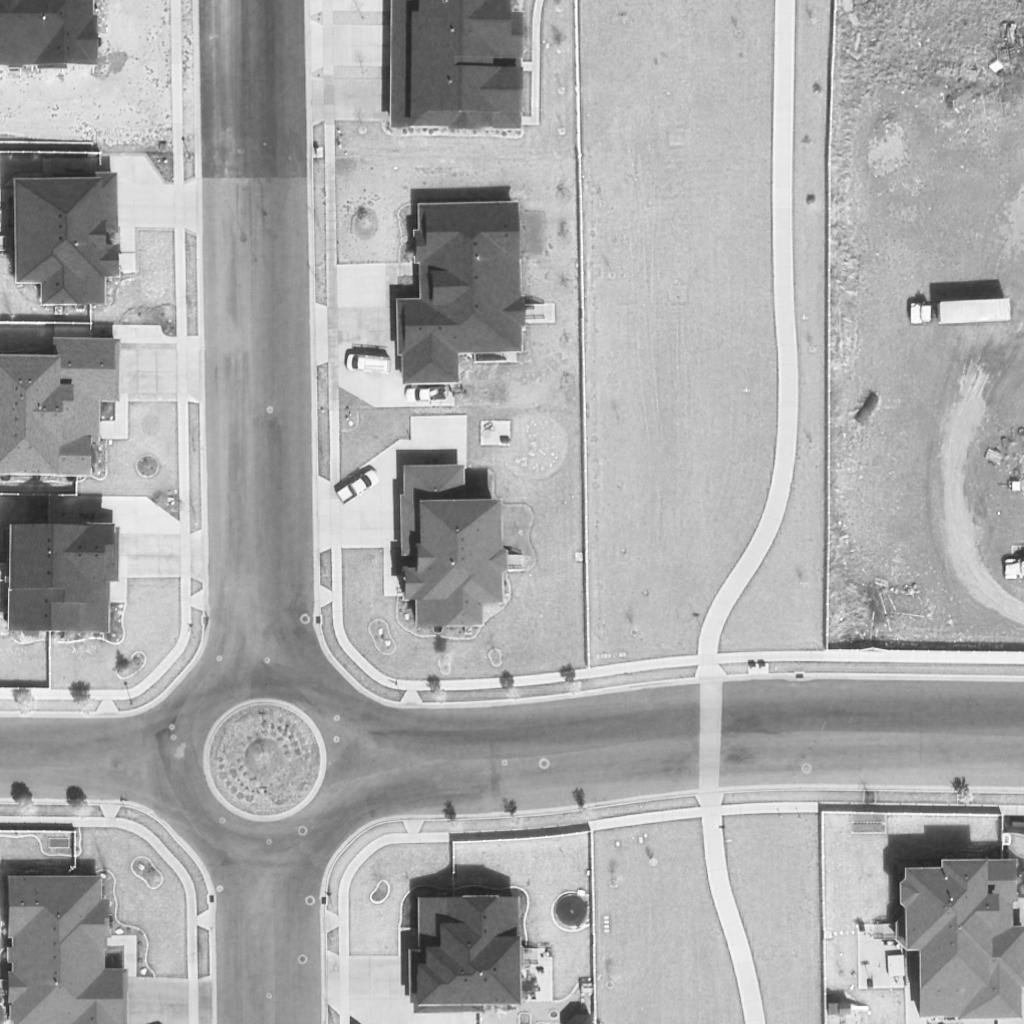vehicle: (908, 297, 1014, 329), (334, 468, 384, 506), (346, 354, 392, 376), (403, 386, 453, 404)
